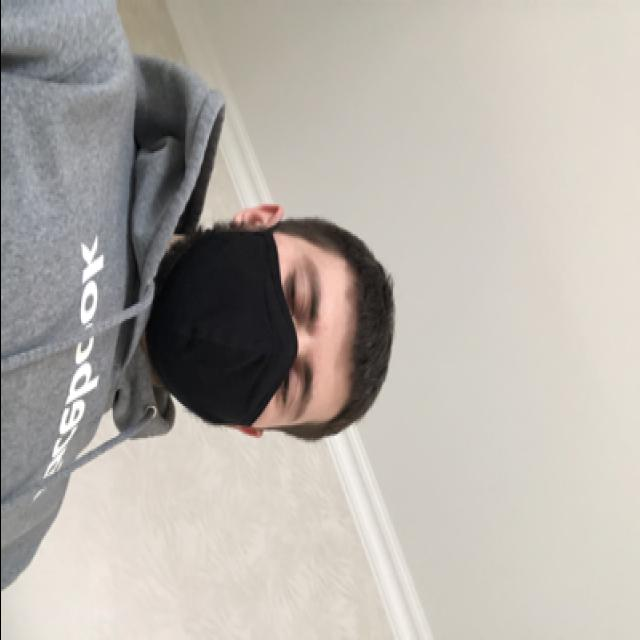with_mask: (148, 230, 330, 428)
